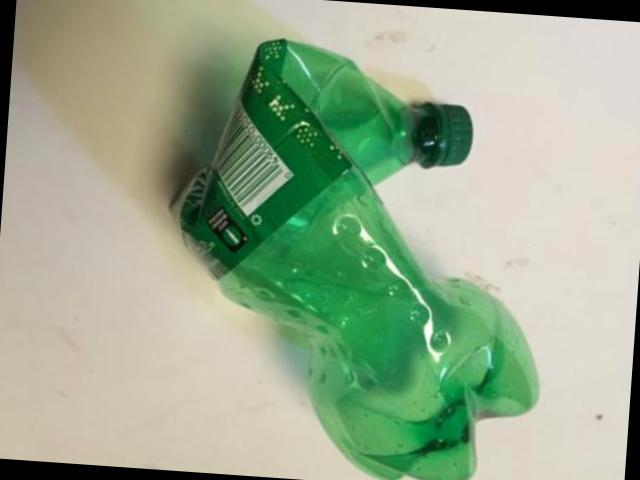plastic: (173, 42, 540, 480)
